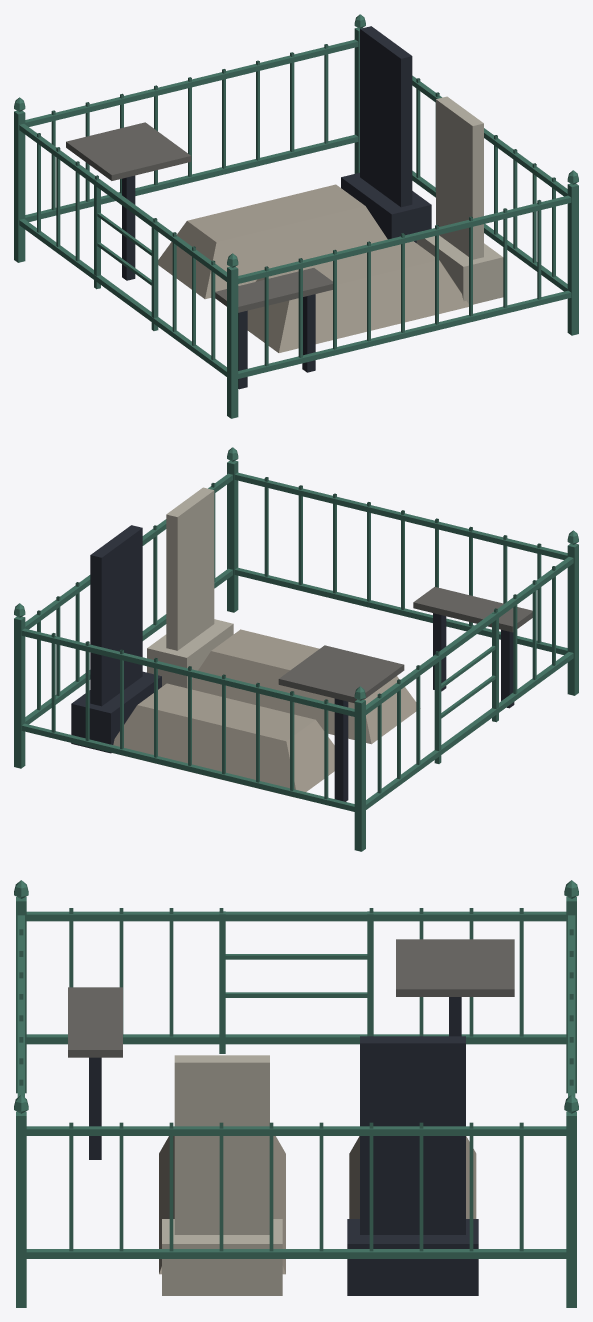
File: SM_Cem_PlotDouble.glb
3 renders of one model, top to bottom at view 1: azimuth 30°, elevation 25°; view 2: azimuth 150°, elevation 25°; view 3: azimuth 270°, elevation 25°, orthographic. The views are drawn at different scales.
Visible parts, largest first — view 1: SM_Cem_PlotDouble; view 2: SM_Cem_PlotDouble; view 3: SM_Cem_PlotDouble.
Boxes of the visible parts, <box> form: SM_Cem_PlotDouble: <box>14,14,578,418</box>; SM_Cem_PlotDouble: <box>14,447,578,851</box>; SM_Cem_PlotDouble: <box>14,880,578,1307</box>.
Size of the model in its own units: 2.48 by 1.27 by 2.67.
